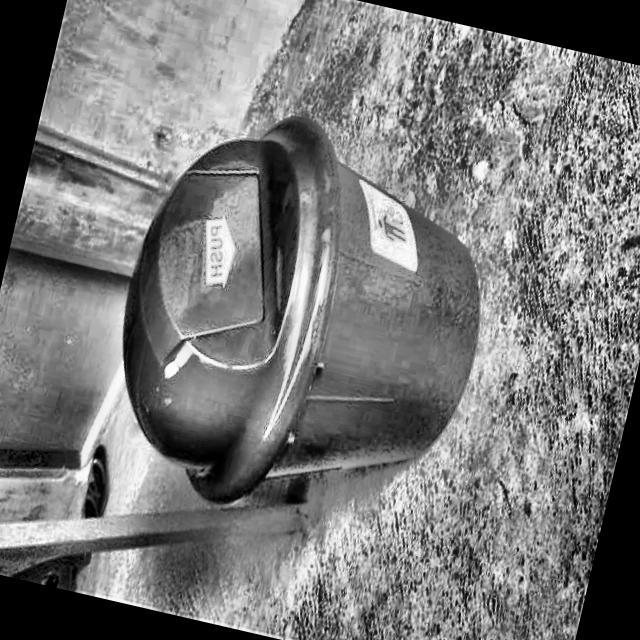Dustbin: (72, 58, 524, 604)
